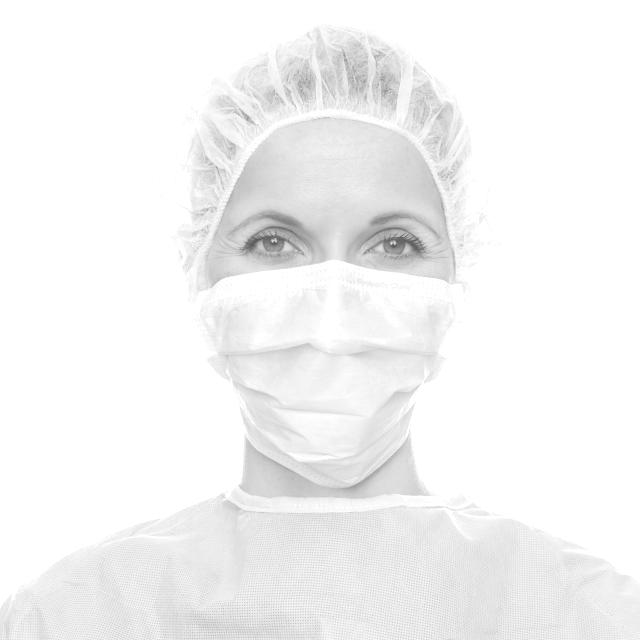fake: (164, 245, 492, 499)
real: (205, 112, 454, 497)
